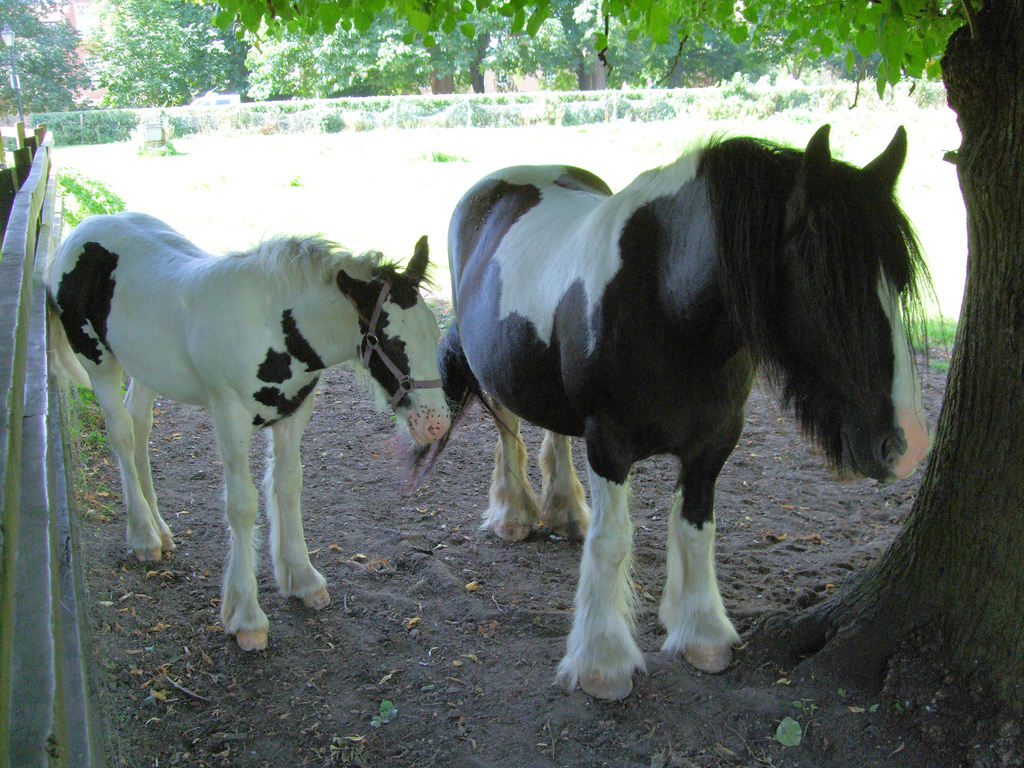horse: (41, 211, 454, 654)
